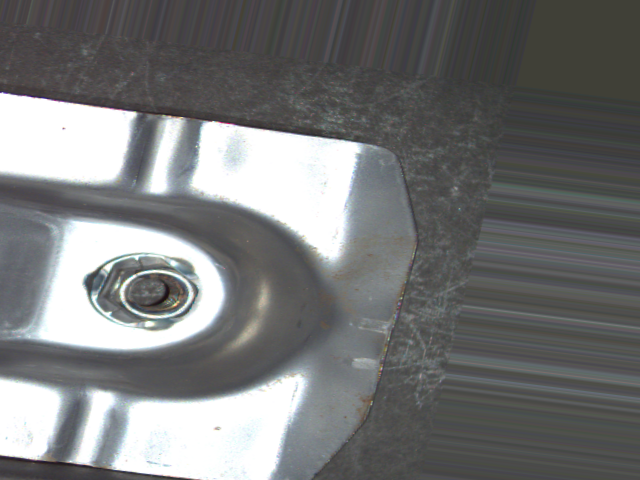good: (81, 251, 209, 331)
